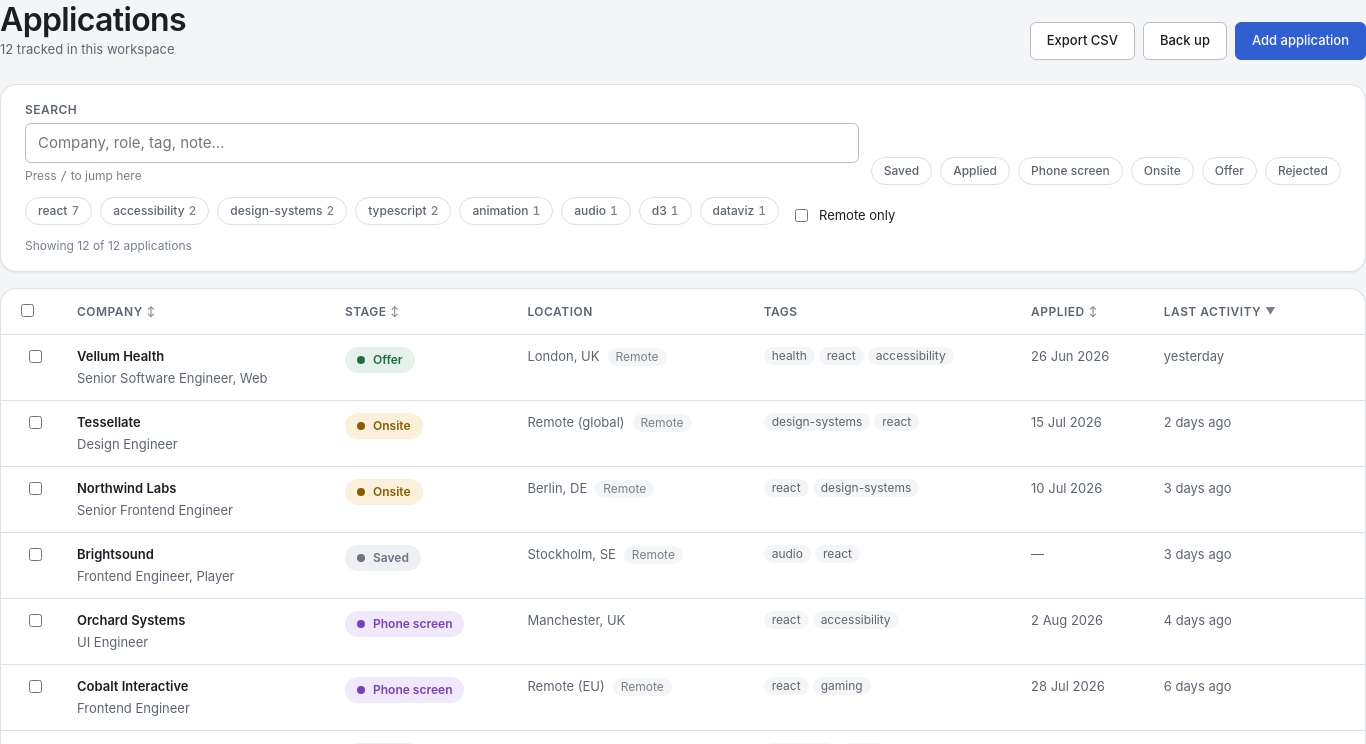
it: BulkActionsBar › stays hidden until something is selected
Step 1. Click the checkbox named "Select Vellum Health" → (36, 356), box x1=29 y1=350 x2=42 y2=363
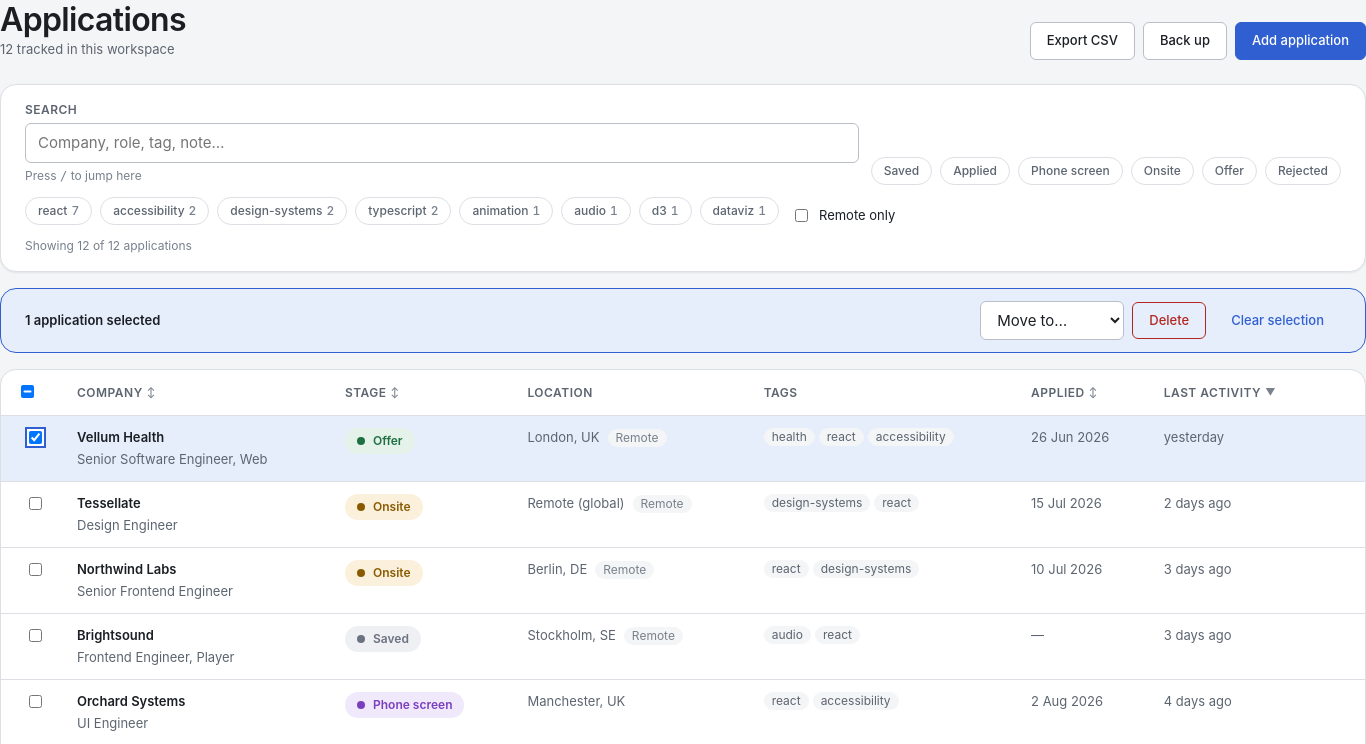
Expected: the element named "Selection actions" is shown, x1=0 y1=288 x2=1365 y2=353
Expected: the text "1 application selected" is shown, x1=25 y1=311 x2=160 y2=330
